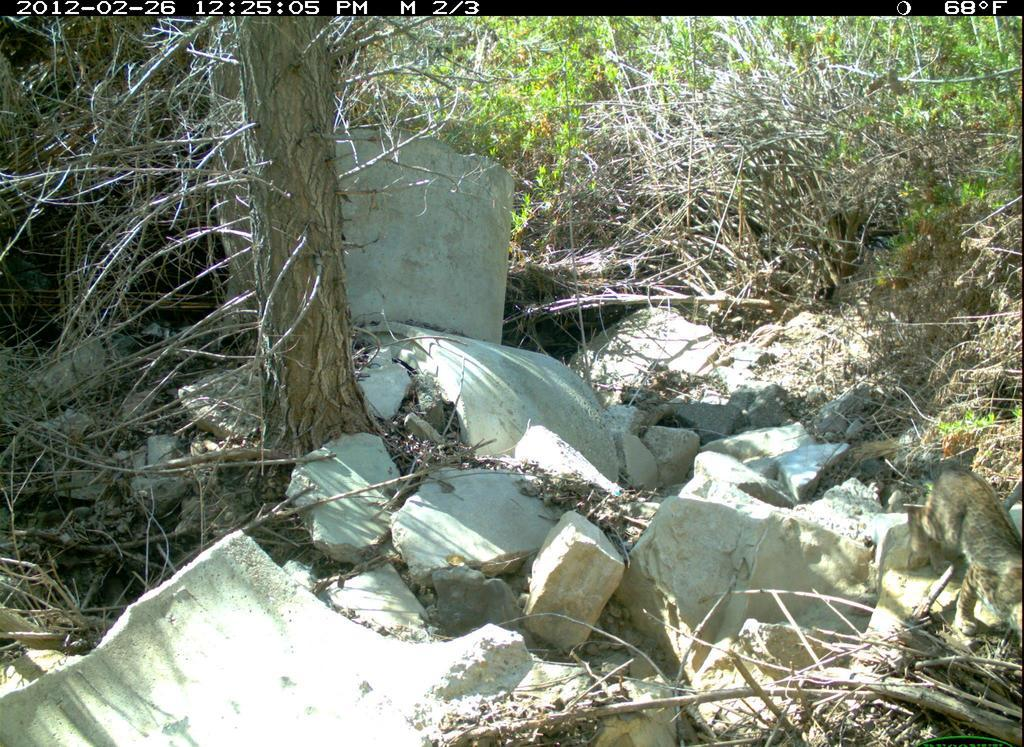bobcat: (891, 449, 1018, 629)
